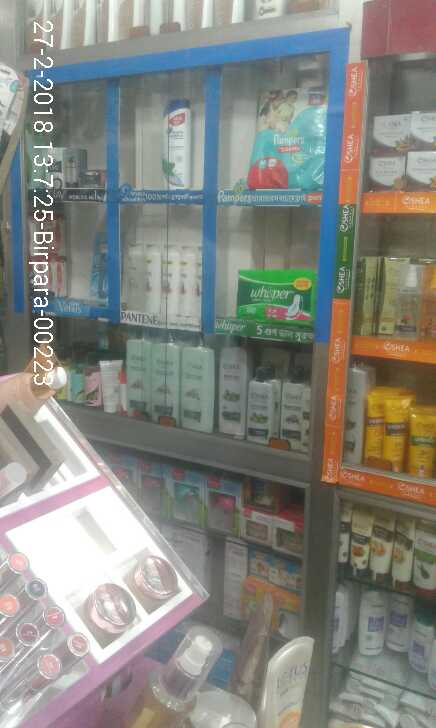venus: (89, 235, 107, 300)
